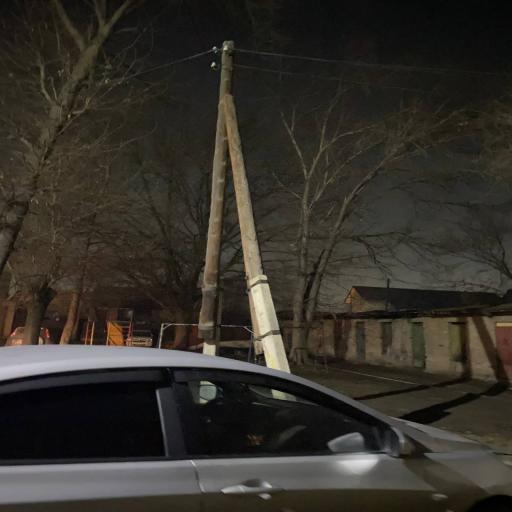book: (0, 339, 512, 512)
elevator: (193, 34, 322, 410)
